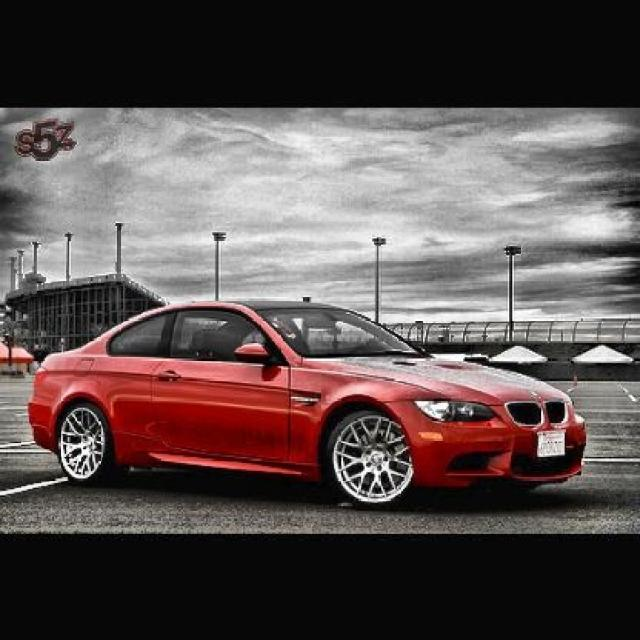maroon: (26, 296, 589, 508)
